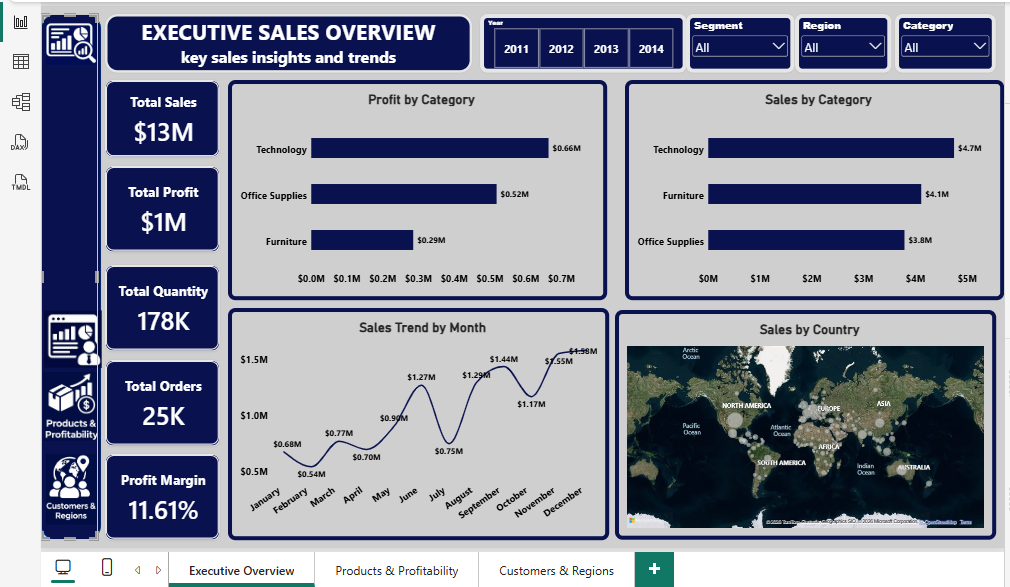

Layout of this report page (visuals, bound fields, positions):
{"tool":"powerbi","page":{"name":"Executive Overview","canvas":[1920,1080],"ordinal":0},"visuals":[{"type":"shape","box":[0,15.4,120.1,1049.1],"z":0,"group":"g1"},{"type":"textbox","box":[127.8,15.4,731.8,116.8],"z":1000,"group":"g2"},{"type":"cardVisual","fields":{"Data":["superstore Project.Total Orders"]},"box":[127.8,705.3,229.2,171.9],"z":2000,"group":"g3"},{"type":"cardVisual","fields":{"Data":["superstore Project.Profit Margin"]},"box":[127.8,892.7,229.2,171.9],"z":3000,"group":"g3"},{"type":"cardVisual","fields":{"Data":["superstore Project.Total Quantity"]},"box":[127.8,515.8,229.2,171.9],"z":4000,"group":"g3"},{"type":"cardVisual","fields":{"Data":["superstore Project.Total Profit"]},"box":[127.8,319.6,229.2,171.9],"z":5000,"group":"g3"},{"type":"cardVisual","fields":{"Data":["superstore Project.Total Sales"]},"box":[127.8,147.7,229.2,154.3],"z":6000,"group":"g3"},{"type":"lineChart","title":"Sales Trend by Month","fields":{"Category":["DimDate.Month"],"Y":["superstore Project.Total Sales"]},"box":[372.5,601.7,760.4,462.9],"z":7000},{"type":"slicer","title":"Sales Trend by Month","fields":{"Values":["DimDate.Year"]},"box":[875,15.4,412.2,116.8],"z":8000,"group":"g2"},{"type":"slicer","title":"Sales Trend by Month","fields":{"Values":["superstore Project.Region"]},"box":[1503.1,15.4,191.8,116.8],"z":9000,"group":"g2"},{"type":"slicer","title":"Sales Trend by Month","fields":{"Values":["superstore Project.Category"]},"box":[1703.7,15.4,200.6,116.8],"z":10000,"group":"g2"},{"type":"slicer","title":"Sales Trend by Month","fields":{"Values":["superstore Project.Segment"]},"box":[1287.1,15.4,216,116.8],"z":11000,"group":"g2"},{"type":"pageNavigator","box":[0,577.5,112.4,467.3],"z":12000},{"type":"map","title":"Sales by Country","fields":{"Category":["DimCountry.Country"],"Size":["superstore Project.Total Sales"]},"box":[1143.9,606.1,760.4,458.4],"z":13000},{"type":"clusteredBarChart","title":"Profit by Category","fields":{"Category":["superstore Project.Category"],"Y":["superstore Project.Total Profit"]},"box":[372.5,147.7,756,438.6],"z":14000},{"type":"clusteredBarChart","title":"Sales by Category","fields":{"Category":["superstore Project.Category"],"Y":["superstore Project.Total Sales"]},"box":[1163.8,147.7,756,438.6],"z":15000},{"type":"image","box":[5.5,587,115.4,152.1],"z":16000,"group":"g1"},{"type":"image","box":[4.7,727.3,110.7,141.1],"z":17000,"group":"g1"},{"type":"image","box":[4.7,892.6,113,141.1],"z":18000,"group":"g1"},{"type":"group","id":"g1","title":"Group 1","box":[0,15.4,114.6,1049.1],"z":19001},{"type":"group","id":"g2","title":"Group 2","box":[127.8,15.4,1776.5,116.8],"z":19002},{"type":"group","id":"g3","title":"Group 3","box":[127.8,147.7,229.2,916.9],"z":19003},{"type":"image","box":[0,33,120.1,83.8],"z":20000,"group":"g1"}]}

Visuals, with their boxes in screenshot pixels (x1, y1, x2, y2):
shape: [39,13,100,538]
textbox: [103,13,470,71]
cardVisual - superstore Project.Total Orders: [103,358,218,444]
cardVisual - superstore Project.Profit Margin: [103,452,218,538]
cardVisual - superstore Project.Total Quantity: [103,263,218,349]
cardVisual - superstore Project.Total Profit: [103,165,218,251]
cardVisual - superstore Project.Total Sales: [103,79,218,156]
"Sales Trend by Month" lineChart: [226,306,606,538]
"Sales Trend by Month" slicer: [477,13,684,71]
"Sales Trend by Month" slicer: [792,13,888,71]
"Sales Trend by Month" slicer: [892,13,992,71]
"Sales Trend by Month" slicer: [683,13,792,71]
pageNavigator: [39,294,96,528]
"Sales by Country" map: [612,309,992,538]
"Profit by Category" clusteredBarChart: [226,79,604,299]
"Sales by Category" clusteredBarChart: [622,79,1000,299]
image: [42,299,100,375]
image: [42,369,97,440]
image: [42,452,98,523]
"Group 1" group: [39,13,97,538]
"Group 2" group: [103,13,992,71]
"Group 3" group: [103,79,218,538]
image: [39,22,100,64]
